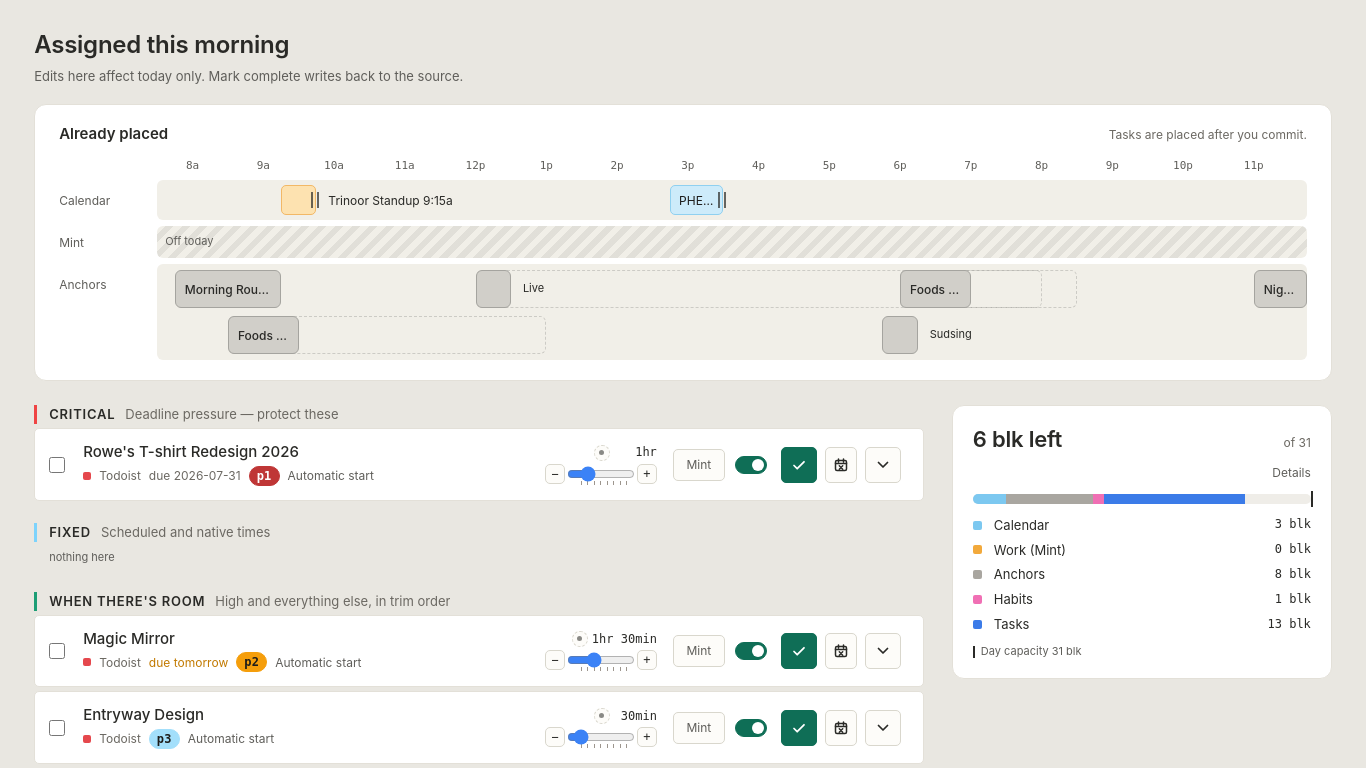
it: FEEDBACK-10 secondary actions left the row (A13, rewritten for F7) › source removal and Delete are Source-menu items, not row controls
What coordinates should you click on to do the following:
click the button named "Expand" in the row of "p2"
I would click on:
 (883, 651)
Its box is [865,633,901,669].
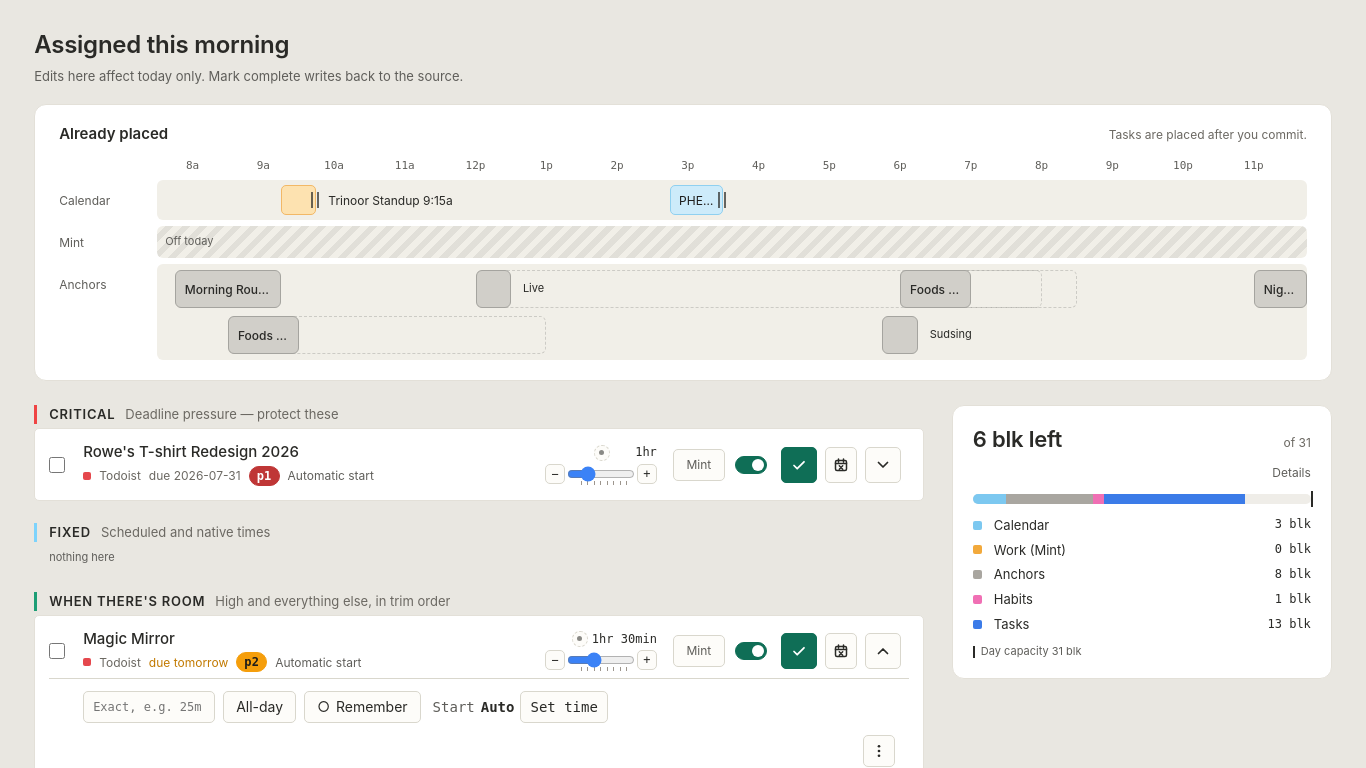
What coordinates should you click on to do the following:
click the button with class "source-menu__trigger"
I would click on:
 (879, 751)
Its box is [863,735,895,767].
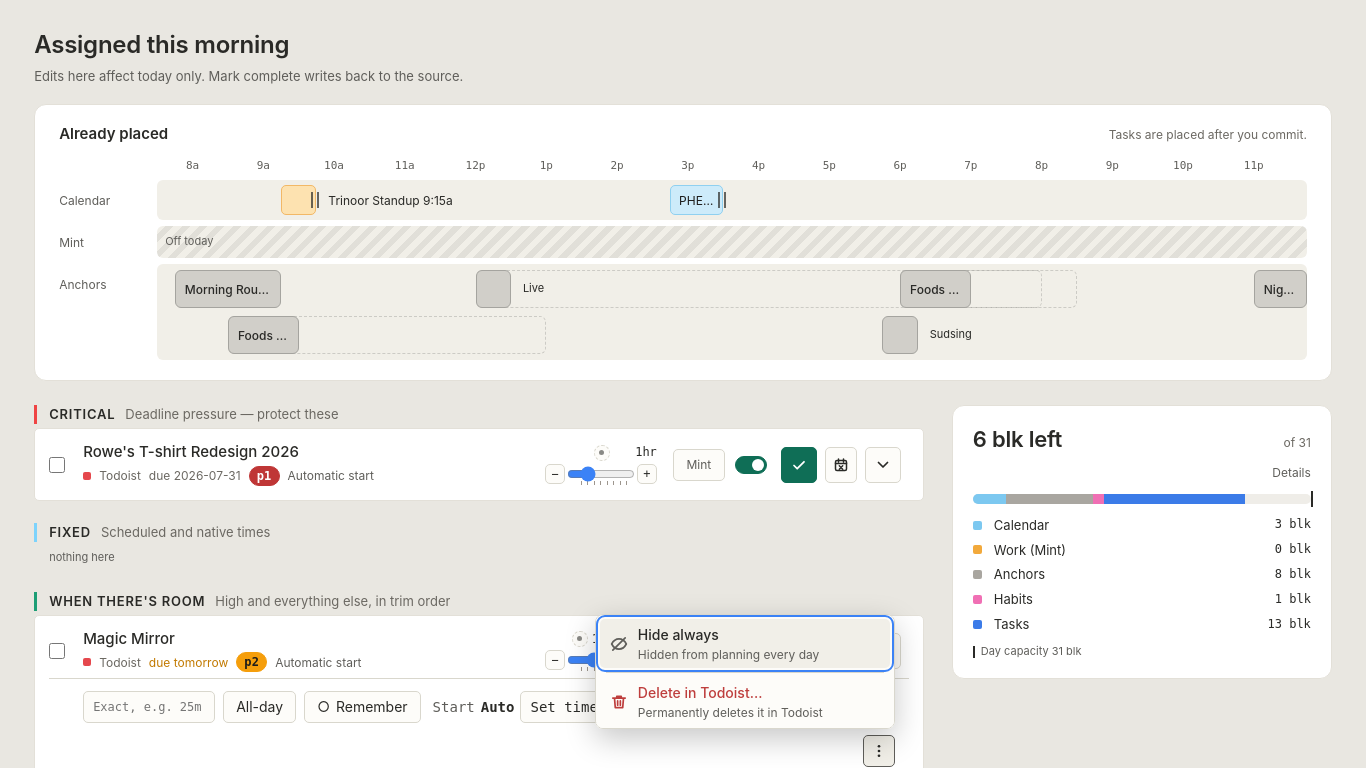
Check: the text "Hide always" is shown, box [638,626,719,643]
Check: the text "Delete in Todoist…" is shown, box [638,684,762,701]
